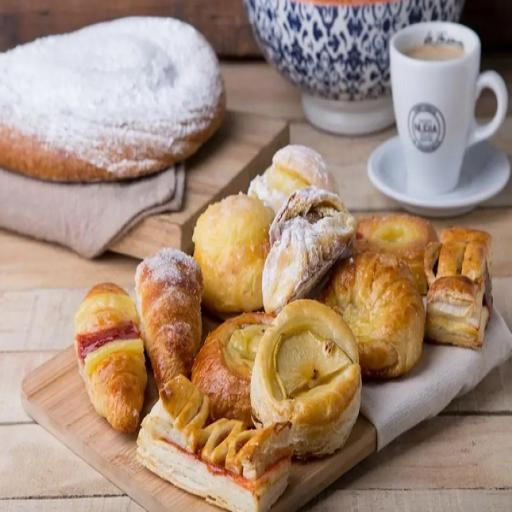bolleria: (0, 17, 225, 181), (137, 375, 292, 511), (251, 300, 361, 456), (320, 253, 425, 379), (262, 187, 357, 313), (74, 284, 147, 433), (193, 193, 273, 315), (135, 249, 203, 390), (192, 314, 273, 426), (424, 227, 492, 349), (354, 215, 438, 295), (248, 145, 338, 214)
